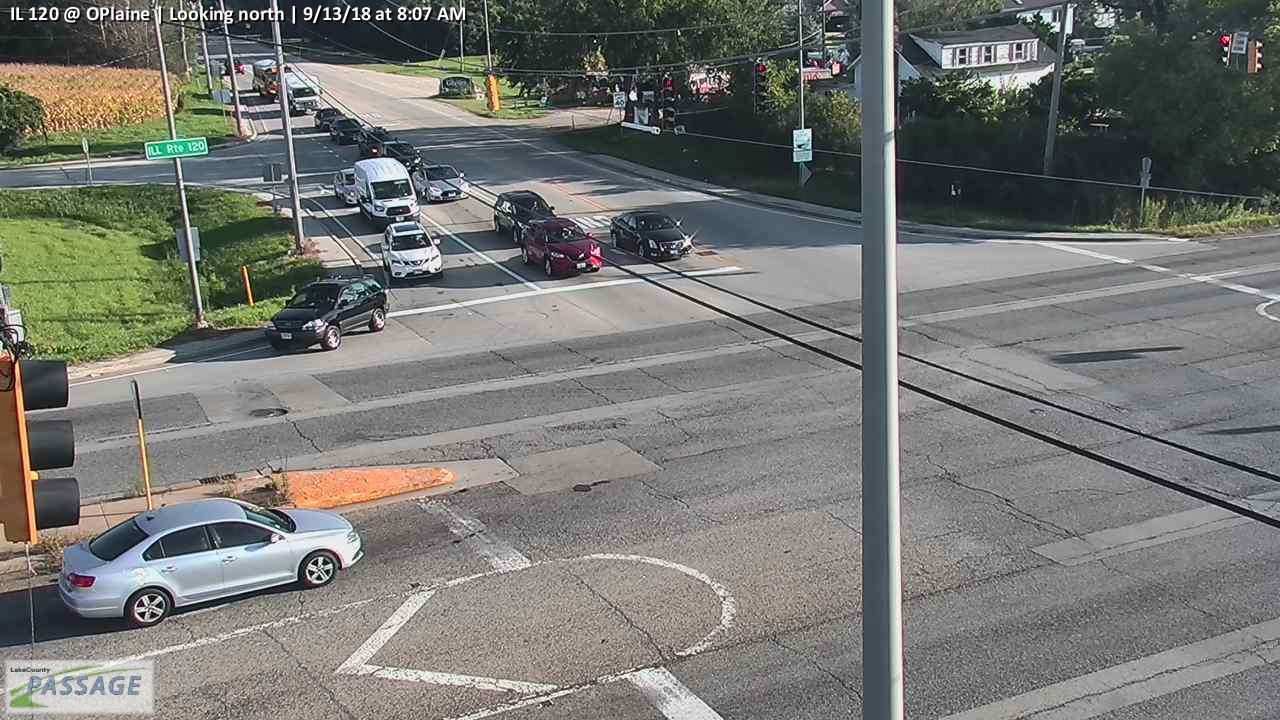SUV: (264, 274, 391, 354), (519, 217, 603, 279), (380, 218, 445, 284), (492, 188, 560, 244)
Sedan: (59, 496, 365, 631), (609, 210, 693, 263), (411, 162, 470, 203), (332, 167, 361, 207), (330, 118, 364, 145), (314, 108, 342, 129)
Truck: (353, 156, 421, 229), (365, 126, 423, 172), (280, 70, 322, 114), (251, 59, 287, 101)
